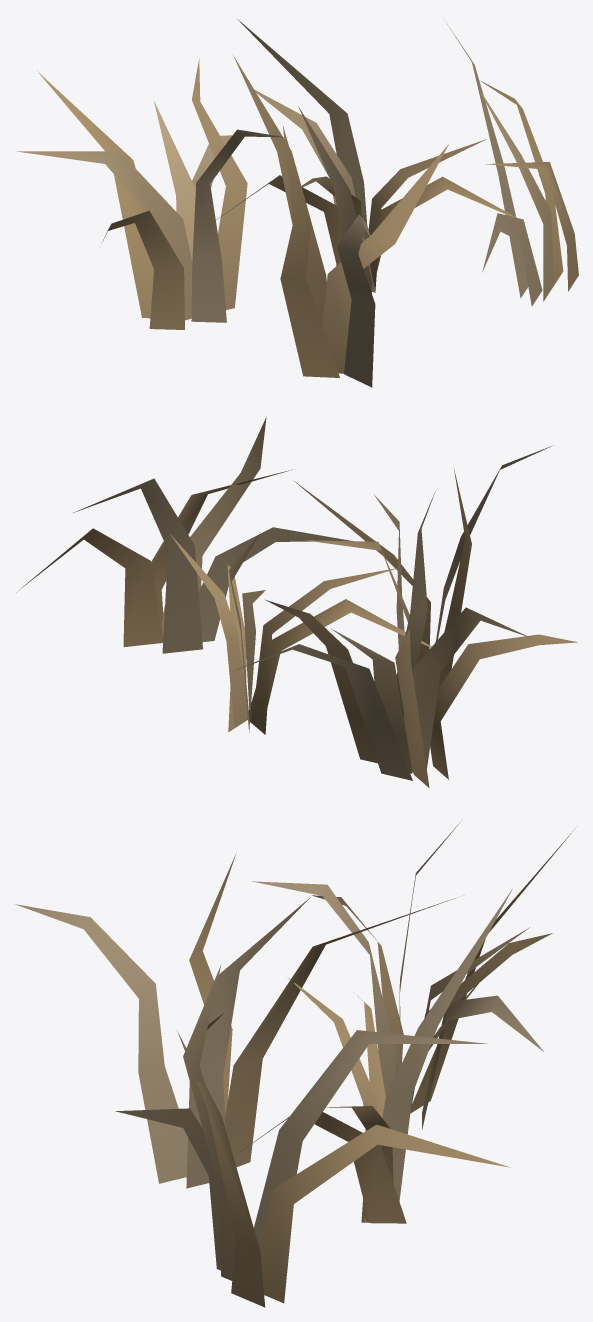
Rendered from Grass_e_OneS_06.fbx.
3 renders of one model, top to bottom at view 1: azimuth 30°, elevation 25°; view 2: azimuth 150°, elevation 25°; view 3: azimuth 270°, elevation 25°, orthographic. The views are drawn at different scales.
Visible parts, largest first — view 1: Grass_e_OneS_06; view 2: Grass_e_OneS_06; view 3: Grass_e_OneS_06.
Part boxes in pixels (left/top/right/bottom): Grass_e_OneS_06: left=16, top=19, right=578, bottom=387; Grass_e_OneS_06: left=16, top=417, right=577, bottom=787; Grass_e_OneS_06: left=14, top=822, right=575, bottom=1307.
Size of the model in its own units: 102 by 51.88 by 87.12.
